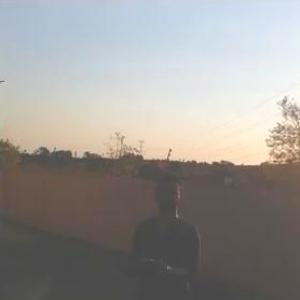follow: (124, 164, 208, 299)
